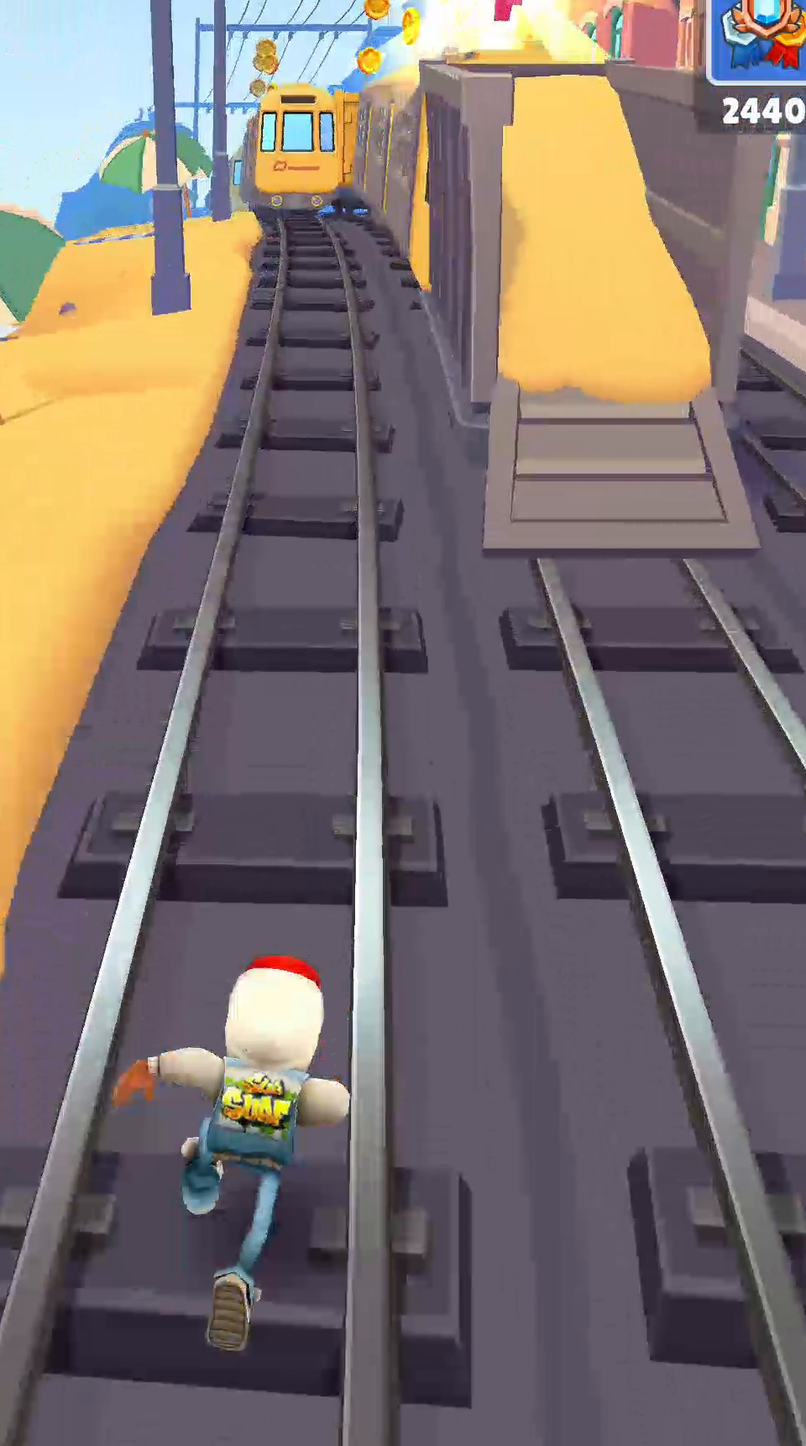climber: (484, 69, 755, 555)
train: (421, 63, 512, 425), (354, 63, 428, 280), (241, 83, 344, 207)
